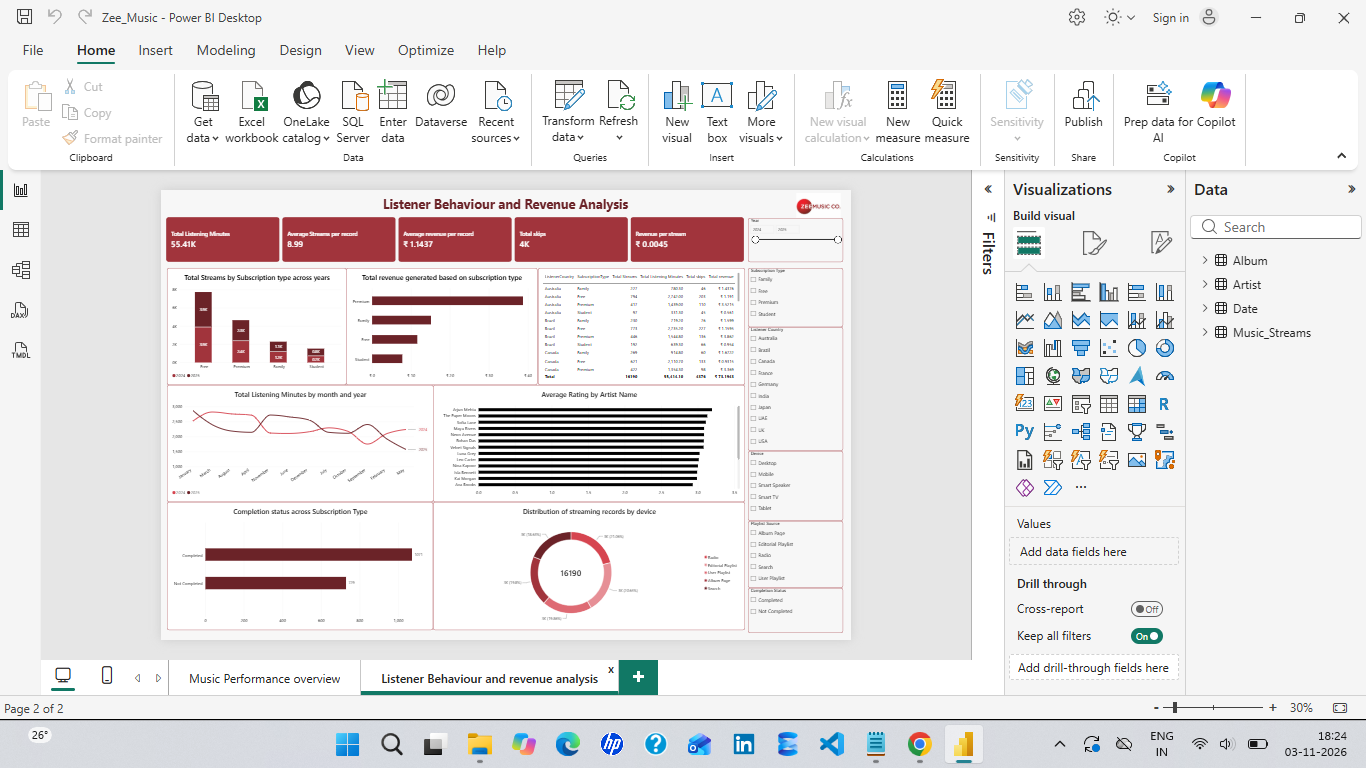

Layout of this report page (visuals, bound fields, positions):
{"tool":"powerbi","page":{"name":"Listener Behaviour and revenue analysis","canvas":[2300,1500],"ordinal":1},"visuals":[{"type":"textbox","box":[318.3,6.7,1663.3,90],"z":0},{"type":"image","box":[2110,10,163.3,83.3],"z":1000},{"type":"cardVisual","fields":{"Data":["Album.Total Listening Minutes","Album.Average Streams per record","Album.Average revenue per record","Album.Total skips","Album.Revenue per stream"]},"box":[16.7,90,1930,150],"z":2000},{"type":"columnChart","title":"Total Streams by Subscription type across years","fields":{"Category":["Music_Streams.SubscriptionType"],"Series":["Date.Year"],"Y":["Album.Total Streams"]},"box":[20,260,597.5,390],"z":3000},{"type":"barChart","title":"Total revenue generated based on subscription type","fields":{"Category":["Music_Streams.SubscriptionType"],"Y":["Album.Total revenue"]},"box":[617.5,260,637.5,390],"z":4000},{"type":"donutChart","title":"Distribution of streaming records by device","fields":{"Category":["Music_Streams.PlaylistSource"],"Y":["Album.Total Streams"]},"box":[906.7,1040,1040,426.7],"z":5000},{"type":"lineChart","title":"Total Listening Minutes by month and year","fields":{"Category":["Date.MonthName"],"Series":["Date.Year"],"Y":["Album.Total Listening Minutes"]},"box":[20,650,887.5,390],"z":6000},{"type":"clusteredBarChart","title":"Average Rating by Artist Name","fields":{"Category":["Artist.ArtistName"],"Y":["Album.Average Rating"]},"box":[906.7,650,1040,390],"z":7000},{"type":"barChart","title":"Completion status across Subscription Type","fields":{"Category":["Music_Streams.Completion Status"],"Y":["CountNonNull(Music_Streams.SubscriptionType)"]},"box":[20,1040,886.7,426.7],"z":8000},{"type":"tableEx","fields":{"Values":["Music_Streams.ListenerCountry","Music_Streams.SubscriptionType","Album.Total Streams","Album.Total Listening Minutes","Album.Total skips","Album.Total revenue"]},"box":[1255,260,690,390],"z":9000},{"type":"slicer","fields":{"Values":["Date.Year"]},"box":[1956.7,93.3,316.7,146.7],"z":10000},{"type":"slicer","fields":{"Values":["Music_Streams.SubscriptionType"]},"box":[1956.7,260,316.7,196.7],"z":11000},{"type":"slicer","fields":{"Values":["Music_Streams.ListenerCountry"]},"box":[1956.7,456.7,316.7,413.3],"z":12000},{"type":"slicer","fields":{"Values":["Music_Streams.Device"]},"box":[1956.7,870,316.7,233.3],"z":13000},{"type":"slicer","fields":{"Values":["Music_Streams.PlaylistSource"]},"box":[1956.7,1103.3,316.7,223.3],"z":14000},{"type":"slicer","fields":{"Values":["Music_Streams.Completion Status"]},"box":[1956.7,1326.7,316.7,150],"z":15000}]}

Visuals, with their boxes on the page's 2300x1500 design canvas (x1, y1, x2, y2). These are canvas units, not pixel positions in the 1366x768 screenshot, which may show the page scaled, cropped or inside an application window:
textbox: 318,7,1982,97
image: 2110,10,2273,93
cardVisual - Album.Total Listening Minutes x Album.Average Streams per record: 17,90,1947,240
"Total Streams by Subscription type across years" columnChart: 20,260,618,650
"Total revenue generated based on subscription type" barChart: 618,260,1255,650
"Distribution of streaming records by device" donutChart: 907,1040,1947,1467
"Total Listening Minutes by month and year" lineChart: 20,650,908,1040
"Average Rating by Artist Name" clusteredBarChart: 907,650,1947,1040
"Completion status across Subscription Type" barChart: 20,1040,907,1467
tableEx - Music_Streams.ListenerCountry x Music_Streams.SubscriptionType: 1255,260,1945,650
slicer - Date.Year: 1957,93,2273,240
slicer - Music_Streams.SubscriptionType: 1957,260,2273,457
slicer - Music_Streams.ListenerCountry: 1957,457,2273,870
slicer - Music_Streams.Device: 1957,870,2273,1103
slicer - Music_Streams.PlaylistSource: 1957,1103,2273,1327
slicer - Music_Streams.Completion Status: 1957,1327,2273,1477
